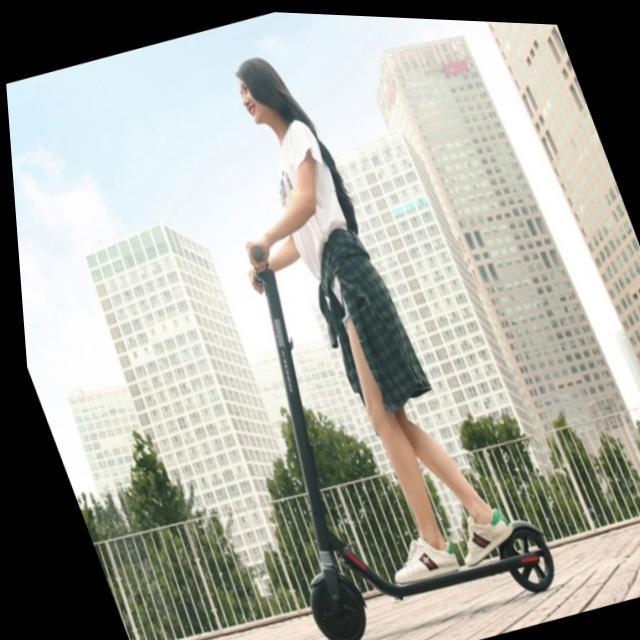Nonhelmet: (228, 44, 304, 136)
